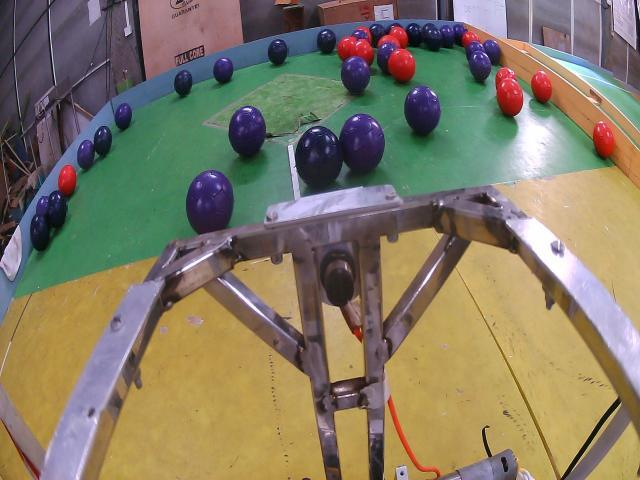jambhalya: (186, 170, 234, 233), (340, 114, 385, 173), (229, 106, 266, 156), (404, 85, 441, 135), (341, 56, 370, 94), (469, 50, 491, 81), (377, 42, 398, 73), (76, 140, 95, 170), (213, 57, 234, 83), (268, 38, 288, 65), (317, 29, 337, 53), (115, 103, 132, 130), (484, 38, 501, 65), (466, 40, 485, 60), (440, 25, 456, 48), (407, 23, 422, 47), (453, 25, 467, 46), (36, 196, 49, 214), (353, 30, 370, 40)
kaalyya: (295, 127, 342, 189), (46, 190, 67, 228), (30, 213, 50, 251), (94, 126, 112, 156), (268, 38, 288, 65), (317, 29, 337, 53), (174, 70, 192, 96), (424, 28, 442, 52), (370, 23, 387, 47), (407, 23, 422, 47), (422, 24, 436, 38), (386, 22, 401, 32)
